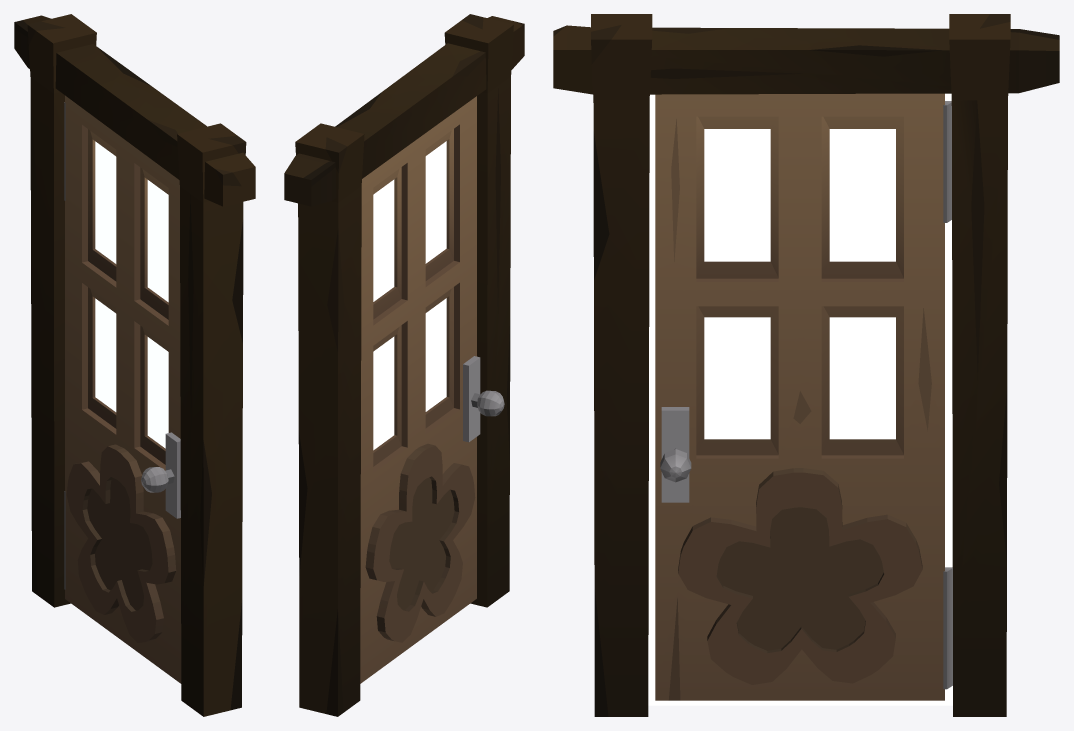
File: cutepack2023singledoor 1.fbx
3 renders of one model, left to right at view 1: azimuth 30°, elevation 25°; view 2: azimuth 150°, elevation 25°; view 3: azimuth 270°, elevation 25°, orthographic. The views are drawn at different scales.
Visible parts, largest first — view 1: Cylinder.007, Cylinder.005, Plane.004; view 2: Cylinder.007, Cylinder.005, Plane.004; view 3: Cylinder.005, Cylinder.007, Plane.004.
Part boxes in pixels (x1,y1,x2,y2): Cylinder.007: (14, 14, 255, 716); Cylinder.005: (64, 95, 181, 683); Plane.004: (95, 141, 168, 448); Cylinder.007: (284, 14, 524, 716); Cylinder.005: (360, 96, 504, 683); Plane.004: (373, 141, 446, 450); Cylinder.005: (655, 93, 952, 700); Cylinder.007: (553, 14, 1059, 716); Plane.004: (648, 93, 952, 705).
Bounding box in the file's own units: 61.53 × 366 × 248.
